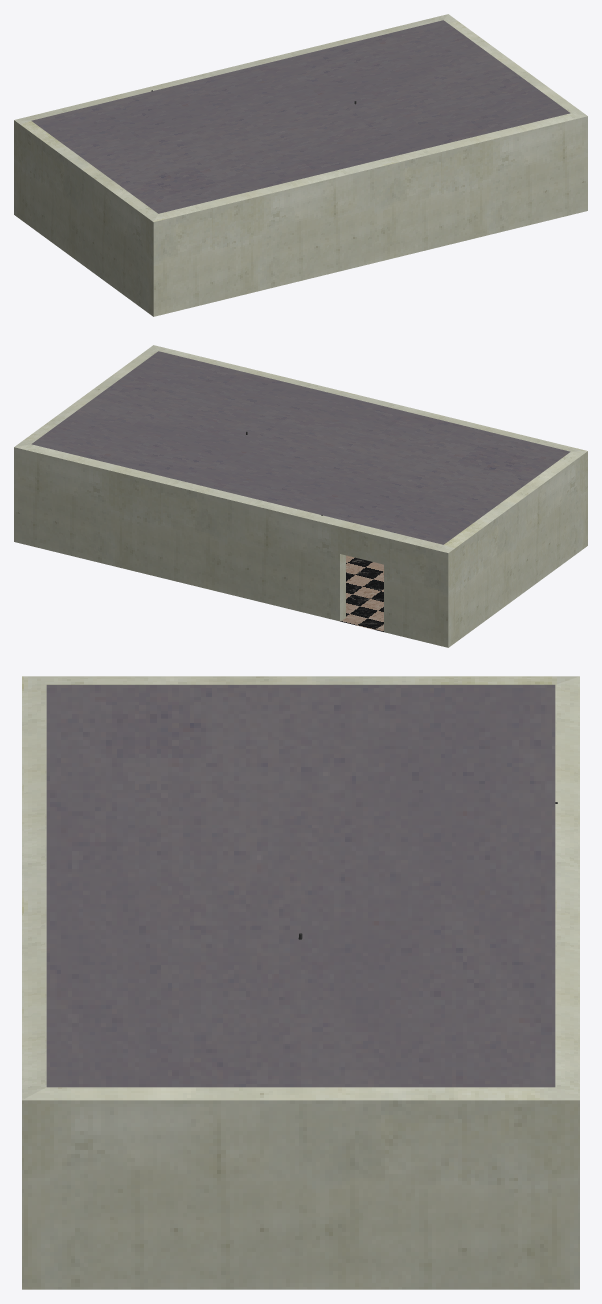
Rendered from Pva_StashRoom.glb.
3 renders of one model, top to bottom at view 1: azimuth 30°, elevation 25°; view 2: azimuth 150°, elevation 25°; view 3: azimuth 270°, elevation 25°, orthographic. The views are drawn at different scales.
Visible parts, largest first — view 1: Walls-col, Celling-col; view 2: Walls-col, Celling-col, Walls-col.001; view 3: Celling-col, Walls-col.
Boxes of the visible parts, x1=… form: Walls-col: x1=14, y1=14, x2=587, y2=316; Celling-col: x1=31, y1=20, x2=570, y2=213; Walls-col: x1=14, y1=345, x2=587, y2=647; Celling-col: x1=31, y1=351, x2=570, y2=544; Walls-col.001: x1=340, y1=555, x2=383, y2=631; Celling-col: x1=46, y1=685, x2=555, y2=1087; Walls-col: x1=22, y1=676, x2=579, y2=1289.
Bounding box in the file's own units: 17.7 × 3.88 × 9.85.
Materials: 9 (3 with a texture image).
